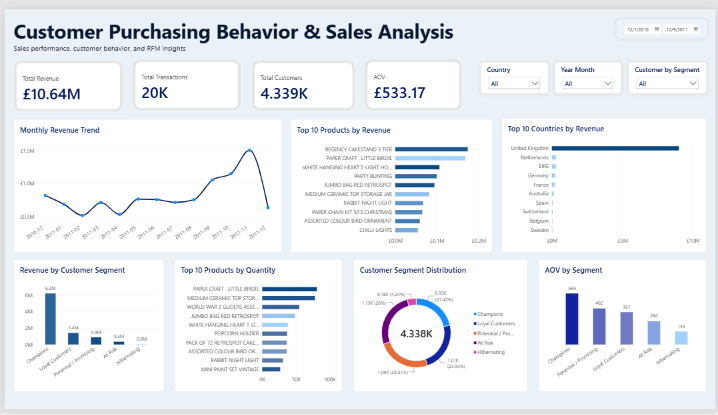

Layout of this report page (visuals, bound fields, positions):
{"tool":"powerbi","page":{"name":"Page 1","canvas":[1920,1080],"ordinal":0},"visuals":[{"type":"cardVisual","fields":{"Data":["sales_data.Total Revenue"]},"box":[24.4,136.6,295.1,139],"z":0},{"type":"cardVisual","fields":{"Data":["sales_data.Total Transactions"]},"box":[346.5,136.2,292.7,139],"z":1000},{"type":"cardVisual","fields":{"Data":["sales_data.AOV"]},"box":[973.8,136.2,263.4,139],"z":2000},{"type":"lineChart","title":"Monthly Revenue Trend","fields":{"Category":["sales_data.YearMonth"],"Y":["sales_data.Total Revenue"]},"box":[25,297.5,725,360],"z":3000},{"type":"barChart","title":"Top 10 Products by Revenue","fields":{"Category":["sales_data.Description"],"Y":["sales_data.Total Revenue"]},"box":[773.8,297.5,545,360],"z":4000},{"type":"barChart","title":"Top 10 Countries by Revenue","fields":{"Category":["sales_data.Country"],"Y":["sales_data.Total Revenue"]},"box":[1342.5,295,552.5,362.5],"z":5000},{"type":"clusteredColumnChart","title":"Revenue by Customer Segment","fields":{"Category":["rfm_customer.Segment"],"Y":["Sum(rfm_customer.Monetary)"]},"box":[25,675,405,357.5],"z":6000},{"type":"barChart","title":"Top 10 Products by Quantity","fields":{"Category":["sales_data.Description"],"Y":["Sum(sales_data.Quantity)"]},"box":[460,675,452.5,357.5],"z":7000},{"type":"donutChart","title":"Customer Segment Distribution","fields":{"Category":["rfm_customer.Segment"],"Y":["CountNonNull(rfm_customer.CustomerID)"]},"box":[942.5,675,470,357.5],"z":8000},{"type":"textbox","box":[25,22.5,1212.5,112.5],"z":9000},{"type":"cardVisual","fields":{"Data":["sales_data.Total Customers"]},"box":[666.2,137.5,280.5,136.6],"z":10000},{"type":"clusteredColumnChart","title":"AOV by Segment ","fields":{"Category":["rfm_customer.Segment"],"Y":["rfm_customer.AOV by Segment"]},"box":[1442.5,675,452.5,357.5],"z":11000},{"type":"slicer","title":"Country","fields":{"Values":["sales_data.Country"]},"box":[1286.2,143.8,182.5,83.8],"z":12000},{"type":"slicer","title":"Year Month","fields":{"Values":["sales_data.YearMonth"]},"box":[1487.1,144.3,180,84.3],"z":13000},{"type":"slicer","title":"Customer by Segment","fields":{"Values":["rfm_customer.Segment"]},"box":[1685.7,144.3,210,84.3],"z":14000},{"type":"slicer","title":"Year Month","fields":{"Values":["sales_data.InvoiceDate"]},"box":[1653.3,28.3,243.3,50],"z":15000}]}

Visuals, with their boxes in screenshot pixels (x1, y1, x2, y2), scaled from the page's 1920x1080 canvas onto the 718x415 screenshot:
cardVisual - sales_data.Total Revenue: (9,52,119,106)
cardVisual - sales_data.Total Transactions: (130,52,239,106)
cardVisual - sales_data.AOV: (364,52,463,106)
"Monthly Revenue Trend" lineChart: (9,114,280,253)
"Top 10 Products by Revenue" barChart: (289,114,493,253)
"Top 10 Countries by Revenue" barChart: (502,113,709,253)
"Revenue by Customer Segment" clusteredColumnChart: (9,259,161,397)
"Top 10 Products by Quantity" barChart: (172,259,341,397)
"Customer Segment Distribution" donutChart: (352,259,528,397)
textbox: (9,9,463,52)
cardVisual - sales_data.Total Customers: (249,53,354,105)
"AOV by Segment " clusteredColumnChart: (539,259,709,397)
"Country" slicer: (481,55,549,87)
"Year Month" slicer: (556,55,623,88)
"Customer by Segment" slicer: (630,55,709,88)
"Year Month" slicer: (618,11,709,30)
